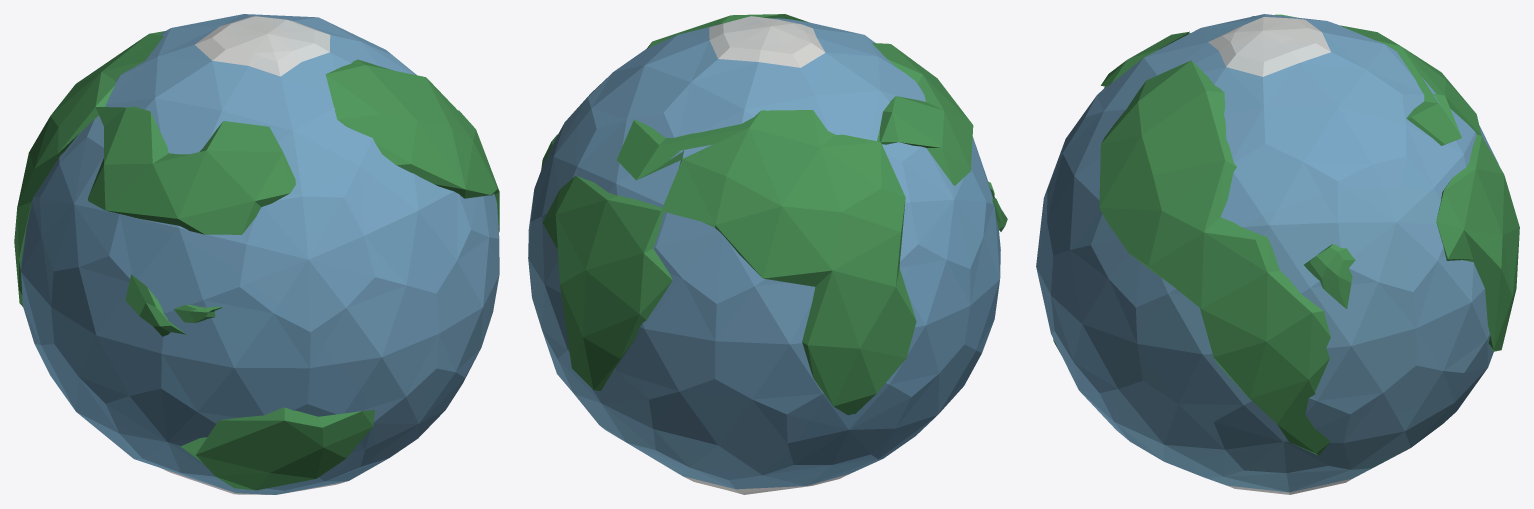
Rendered from ISO_EARTH.gltf.
3 views of the same model, side by side, from view 1: azimuth 30°, elevation 25°; view 2: azimuth 150°, elevation 25°; view 3: azimuth 270°, elevation 25° (orthographic).
Visible parts, largest first — view 1: earth69420; view 2: earth69420; view 3: earth69420.
Part boxes in pixels (<box>): earth69420: <box>14,14,499,494</box>; earth69420: <box>528,14,1007,494</box>; earth69420: <box>1036,14,1519,494</box>.
Size of the model in its own units: 17.22 by 17.52 by 17.23.
1 material, 1 textured.
